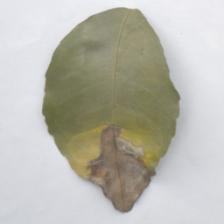black spot: (46, 123, 181, 211)
